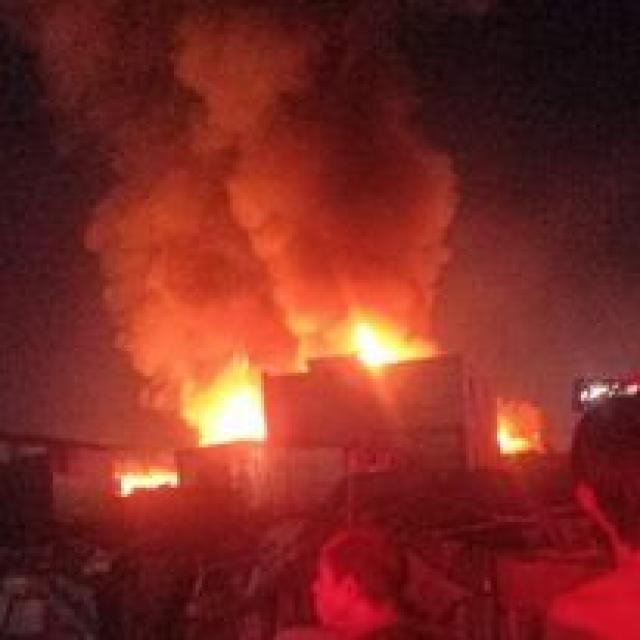Fire: (173, 355, 284, 453), (308, 317, 432, 393), (482, 397, 548, 467), (110, 457, 184, 502)
Smoke: (31, 0, 462, 320)
